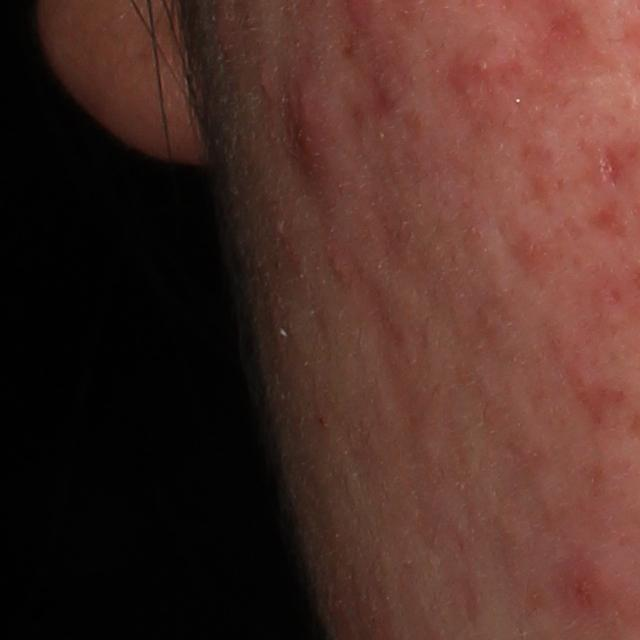atrophic_scar: (574, 382, 637, 438), (588, 140, 630, 194)
nodule: (286, 83, 348, 212)
papule: (449, 36, 537, 104), (317, 241, 365, 293), (510, 226, 555, 274)
